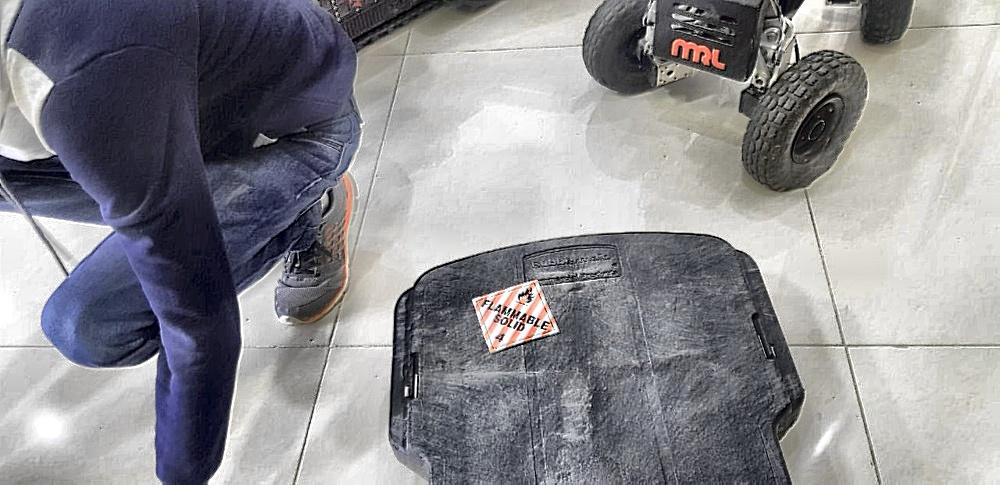flammable-solid: (470, 277, 561, 354)
